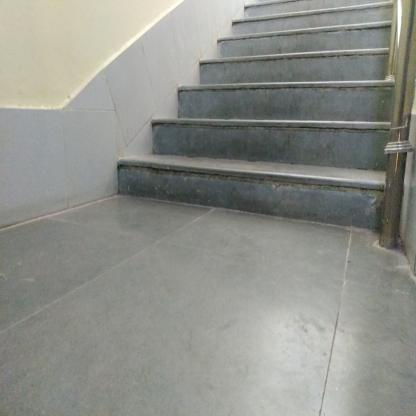stairs: (232, 11, 378, 234)
